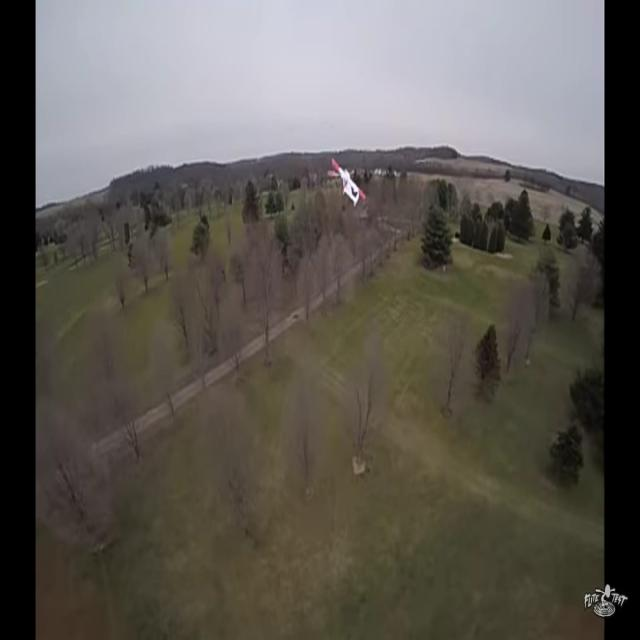iha: (327, 157, 366, 208)
